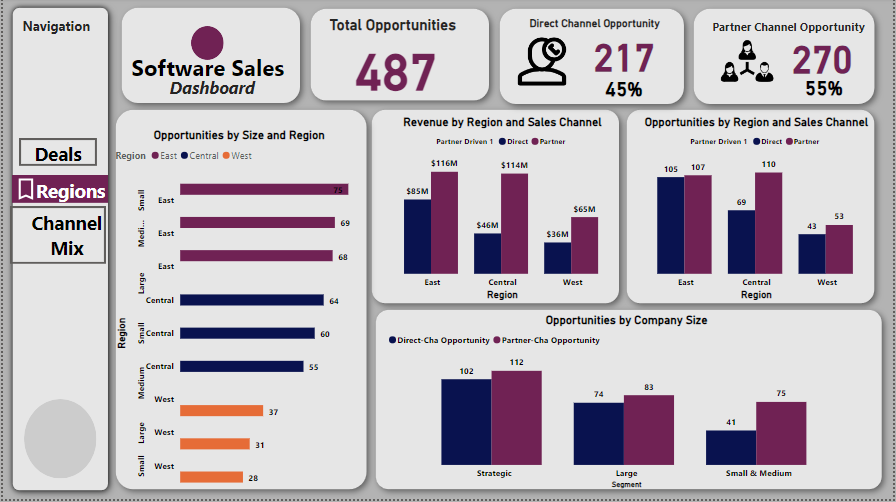

The page's visual inventory and layout, read from the dashboard file:
{"tool":"powerbi","page":{"name":"Regions","canvas":[1280,720],"ordinal":1},"visuals":[{"type":"shape","box":[516.4,146.3,383.5,306.1],"z":0},{"type":"shape","box":[882.4,146.6,383.7,306.1],"z":1000},{"type":"shape","box":[0,0,164.8,721.6],"z":2000},{"type":"shape","box":[156.4,0,284.3,164.8],"z":3000},{"type":"textbox","box":[180,72.3,329.7,52.1],"z":4000},{"type":"shape","box":[428.9,1.7,284.3,159.8],"z":5000},{"type":"shape","box":[699.7,1.7,292.7,164.8],"z":6000},{"type":"shape","box":[978.9,1.7,287.6,164.8],"z":7000},{"type":"textbox","box":[233.8,106,222,58.9],"z":8000},{"type":"shape","box":[270.8,40.4,47.1,48.8],"z":9000},{"type":"card","title":"Total Opportunities","fields":{"Values":["Measure.Total Opportunities"]},"box":[464.2,25.2,200.2,116.1],"z":10000},{"type":"card","fields":{"Values":["Measure.% Direct opportunity"]},"box":[849.4,100.9,85.8,57.2],"z":11000},{"type":"card","fields":{"Values":["Measure.% partner opportunity"]},"box":[1128.6,89.1,102.6,79.1],"z":12000},{"type":"card","title":"Direct Channel Opportunity","fields":{"Values":["Measure.Direct Channel Opportunities"]},"box":[751.9,26.9,280.9,85.8],"z":13000},{"type":"card","title":"Partner Channel Opportunity","fields":{"Values":["Measure.Partner Channel Opportunities"]},"box":[1088.3,40.4,178.3,84.1],"z":14000},{"type":"image","box":[731.7,16.8,85.8,148],"z":15000},{"type":"image","box":[992.4,52.1,153.1,77.4],"z":16000},{"type":"textbox","box":[994.1,25.2,269.1,47.1],"z":17000},{"type":"textbox","box":[23.5,23.5,116.1,52.1],"z":18000},{"type":"clusteredColumnChart","title":"Revenue by Region and Sales Channel","fields":{"Y":["Sum(Fact.FactoredProductRevenue)"],"Category":["Account.Region"],"Series":["Partner.Partner Driven 1"]},"box":[536,168.1,363.6,265.9],"z":21000},{"type":"shape","box":[521.4,434,755.2,285.9],"z":22000},{"type":"shape","box":[148,146.3,388.5,573.6],"z":23000},{"type":"clusteredColumnChart","title":"Opportunities by Region and Sales Channel","fields":{"Y":["CountNonNull(Fact.Opportunity ID)"],"Category":["Account.Region"],"Series":["Partner.Partner Driven 1"]},"box":[899.6,168.1,366.5,265.9],"z":24000},{"type":"clusteredBarChart","title":"Opportunities by Size and Region","fields":{"Category":["Opportunity.Opportunity Size","Account.Region"],"Y":["CountNonNull(Fact.Opportunity ID)"],"Series":["Account.Region"]},"box":[156.4,186.7,366,534],"z":25000},{"type":"clusteredColumnChart","title":"Opportunities by Company Size","fields":{"Category":["Account.Segment"],"Y":["Measure.Direct Channel Opportunities","Measure.Partner Channel Opportunities"]},"box":[548.3,452.5,694.7,257.3],"z":26000},{"type":"shape","box":[30.3,576.9,104.3,114.4],"z":28000},{"type":"actionButton","box":[10.1,298.9,138,83.4],"z":29000},{"type":"actionButton","box":[23,201.2,112.1,40.2],"z":30000},{"type":"actionButton","box":[12.9,254.4,138,40.2],"z":31000}]}

Visuals, with their boxes on the page's 1280x720 design canvas (x1, y1, x2, y2). These are canvas units, not pixel positions in the 896x502 screenshot, which may show the page scaled, cropped or inside an application window:
shape: <bbox>516, 146, 900, 452</bbox>
shape: <bbox>882, 147, 1266, 453</bbox>
shape: <bbox>0, 0, 165, 722</bbox>
shape: <bbox>156, 0, 441, 165</bbox>
textbox: <bbox>180, 72, 510, 124</bbox>
shape: <bbox>429, 2, 713, 162</bbox>
shape: <bbox>700, 2, 992, 166</bbox>
shape: <bbox>979, 2, 1266, 166</bbox>
textbox: <bbox>234, 106, 456, 165</bbox>
shape: <bbox>271, 40, 318, 89</bbox>
"Total Opportunities" card: <bbox>464, 25, 664, 141</bbox>
card - Measure.% Direct opportunity: <bbox>849, 101, 935, 158</bbox>
card - Measure.% partner opportunity: <bbox>1129, 89, 1231, 168</bbox>
"Direct Channel Opportunity" card: <bbox>752, 27, 1033, 113</bbox>
"Partner Channel Opportunity" card: <bbox>1088, 40, 1267, 124</bbox>
image: <bbox>732, 17, 818, 165</bbox>
image: <bbox>992, 52, 1146, 130</bbox>
textbox: <bbox>994, 25, 1263, 72</bbox>
textbox: <bbox>24, 24, 140, 76</bbox>
"Revenue by Region and Sales Channel" clusteredColumnChart: <bbox>536, 168, 900, 434</bbox>
shape: <bbox>521, 434, 1277, 720</bbox>
shape: <bbox>148, 146, 536, 720</bbox>
"Opportunities by Region and Sales Channel" clusteredColumnChart: <bbox>900, 168, 1266, 434</bbox>
"Opportunities by Size and Region" clusteredBarChart: <bbox>156, 187, 522, 721</bbox>
"Opportunities by Company Size" clusteredColumnChart: <bbox>548, 452, 1243, 710</bbox>
shape: <bbox>30, 577, 135, 691</bbox>
actionButton: <bbox>10, 299, 148, 382</bbox>
actionButton: <bbox>23, 201, 135, 241</bbox>
actionButton: <bbox>13, 254, 151, 295</bbox>
